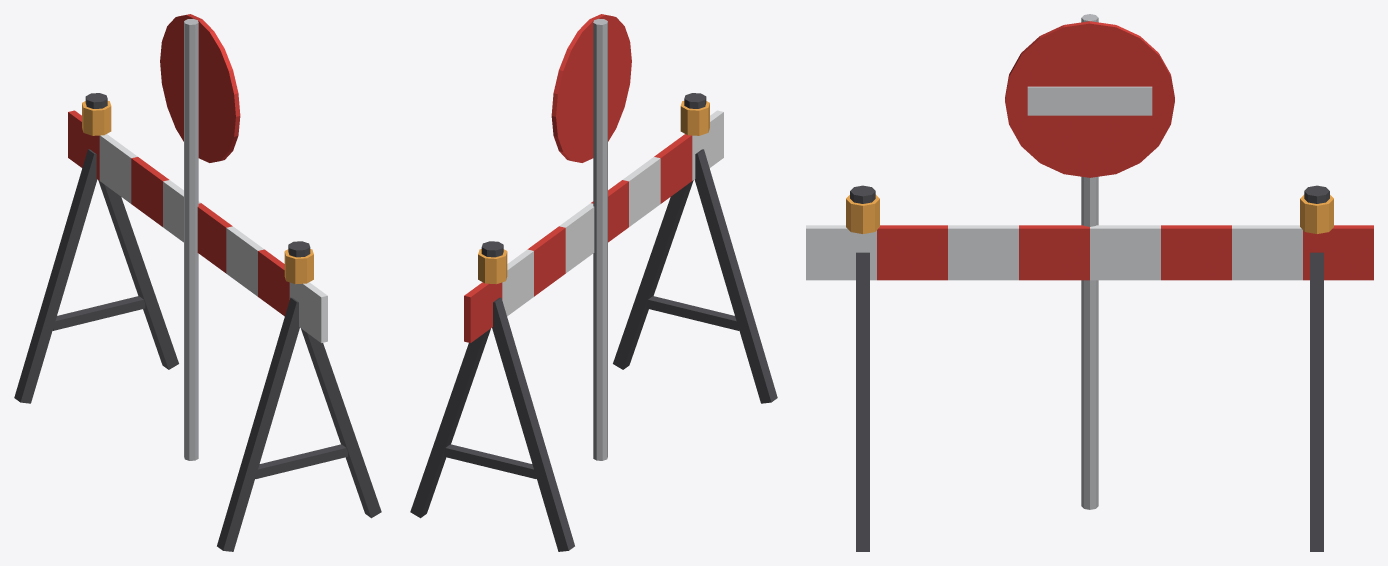
The model's file is SM_Prop_RoadBlock.fbx.
3 views of the same model, side by side, from view 1: azimuth 30°, elevation 25°; view 2: azimuth 150°, elevation 25°; view 3: azimuth 270°, elevation 25° (orthographic). The views are drawn at different scales.
Visible parts, largest first — view 1: SM_Prop_RoadBlock; view 2: SM_Prop_RoadBlock; view 3: SM_Prop_RoadBlock.
Boxes of the visible parts, bbox=[...] form: SM_Prop_RoadBlock: bbox=[14, 14, 381, 551]; SM_Prop_RoadBlock: bbox=[410, 14, 777, 551]; SM_Prop_RoadBlock: bbox=[806, 14, 1373, 551].
Bounding box in the file's own units: 2 × 0.7238 × 1.91.
